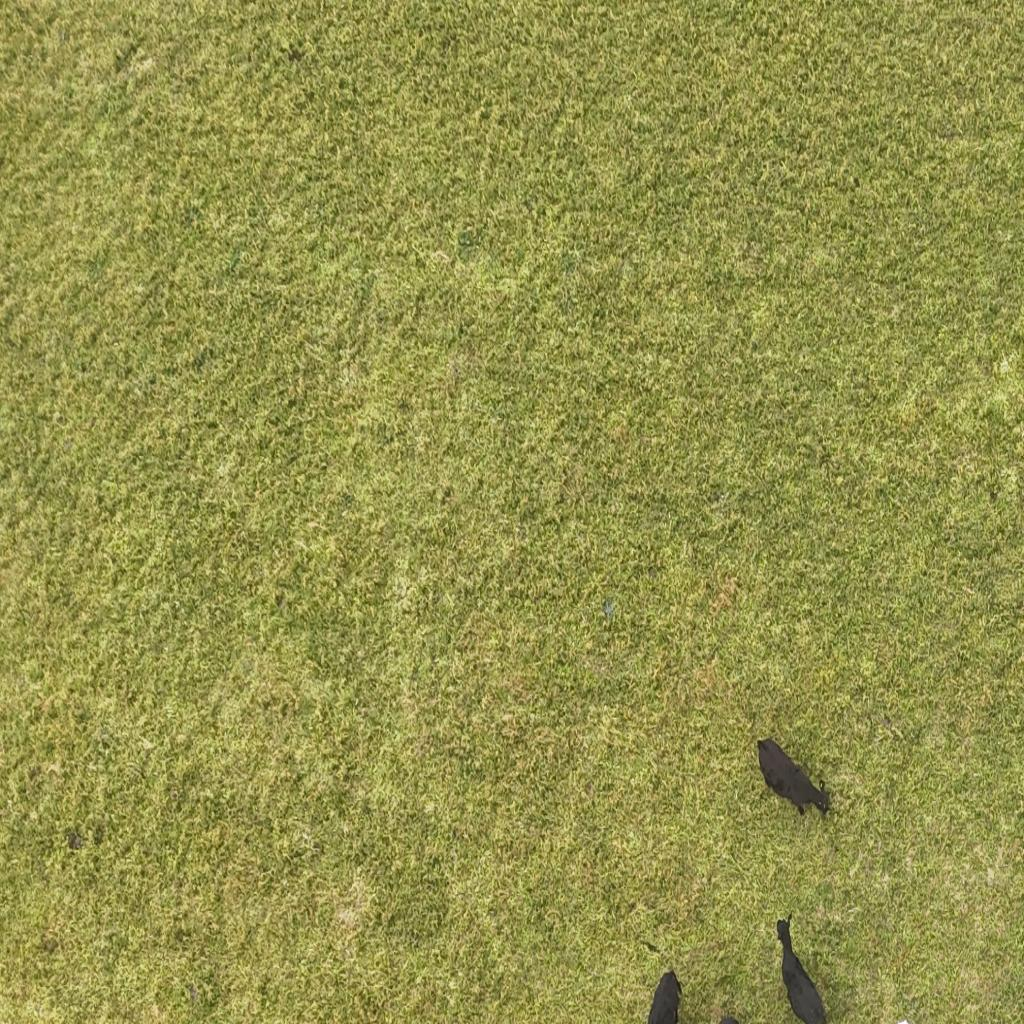cow: (754, 732, 834, 822), (774, 909, 830, 1024)
